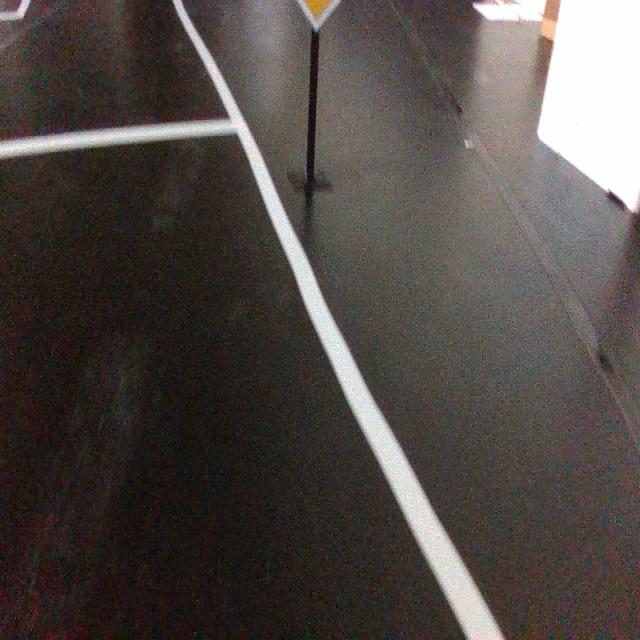priority-sign: (293, 0, 342, 32)
